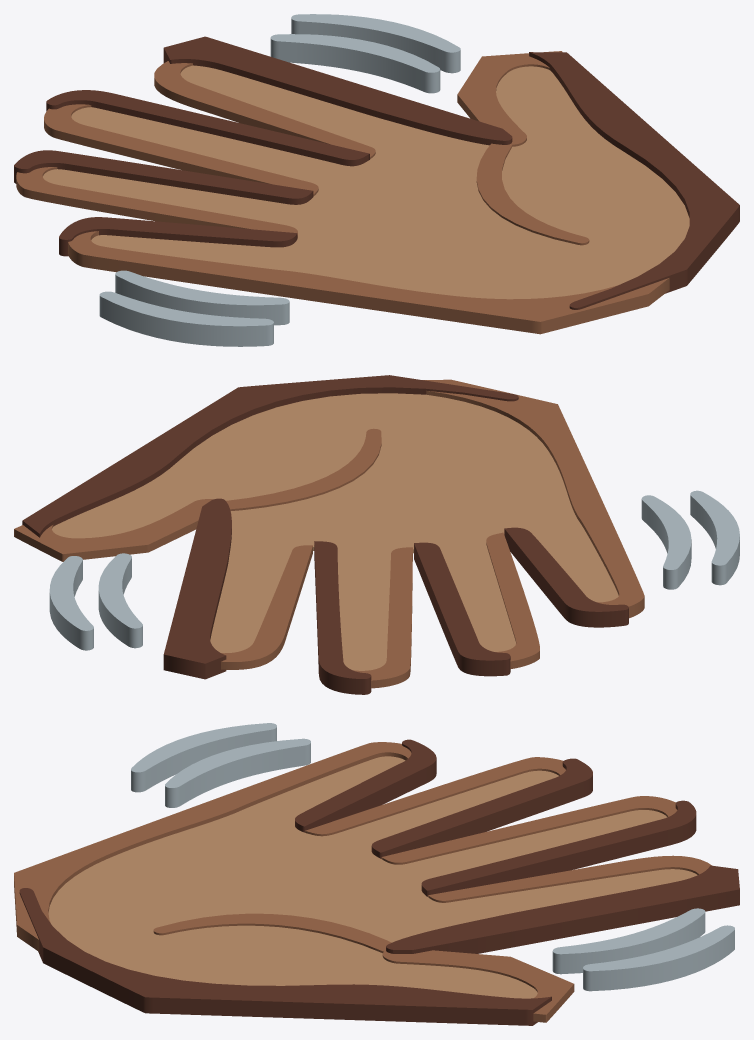
The model's file is emoji_u1f44b_1f3fd.glb.
The picture shows the model from 3 angles, top to bottom: view 1: azimuth 30°, elevation 25°; view 2: azimuth 150°, elevation 25°; view 3: azimuth 270°, elevation 25°; orthographic projection. The views are drawn at different scales.
Parts seen in each view (by area): view 1: emoji_u1f44b_1f3fd; view 2: emoji_u1f44b_1f3fd; view 3: emoji_u1f44b_1f3fd.
Boxes of the visible parts, x1,y1,x2,y2 form: emoji_u1f44b_1f3fd: (14, 14, 739, 346); emoji_u1f44b_1f3fd: (14, 375, 739, 694); emoji_u1f44b_1f3fd: (14, 723, 739, 1025).
Bounding box in the file's own units: 0.0307 × 0.001 × 0.0329.
